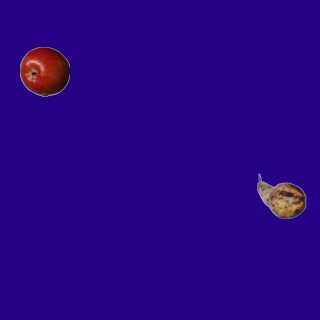Apple Braeburn: (19, 46, 69, 96)
Pear Abate: (256, 171, 306, 221)
